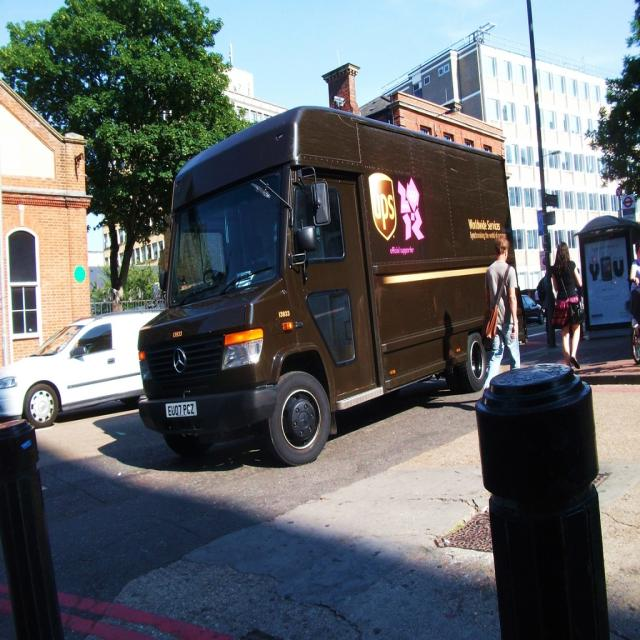ups: (368, 173, 399, 242)
